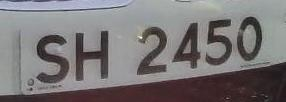0: (234, 13, 265, 64)
2: (131, 23, 175, 82)
4: (170, 17, 204, 76)
5: (201, 17, 237, 68)
H: (71, 25, 115, 88)
S: (29, 27, 73, 89)
